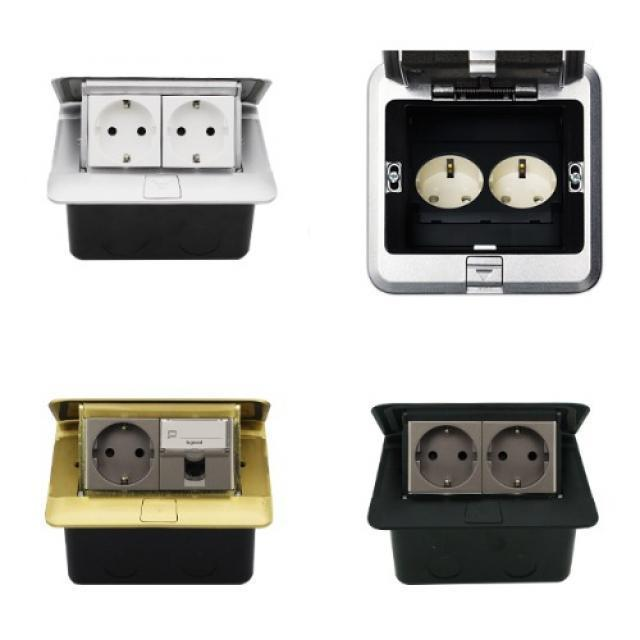typeb: (47, 62, 288, 190), (368, 390, 584, 515), (56, 406, 274, 504)
